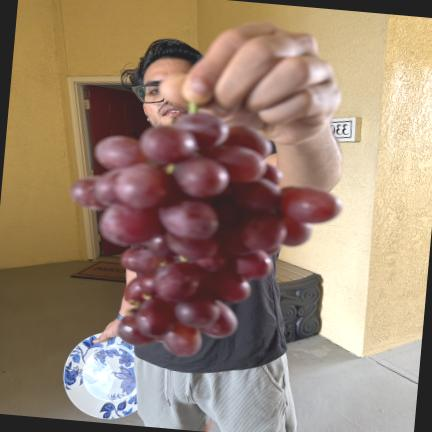grape_cluster: (71, 113, 341, 358)
